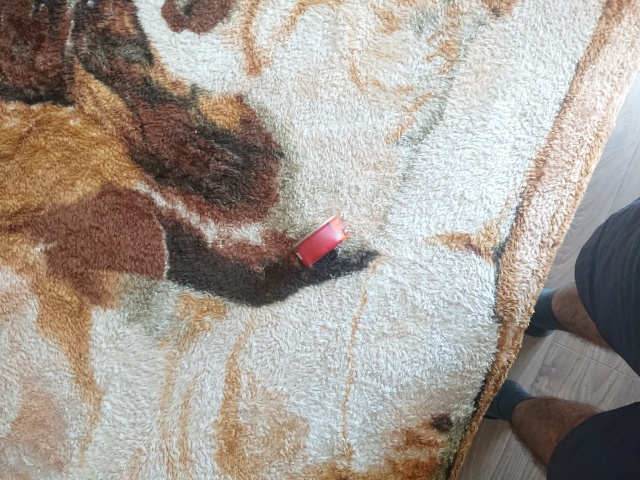Gavrilovic Pork Liver Pate 100g: (289, 211, 350, 266)
